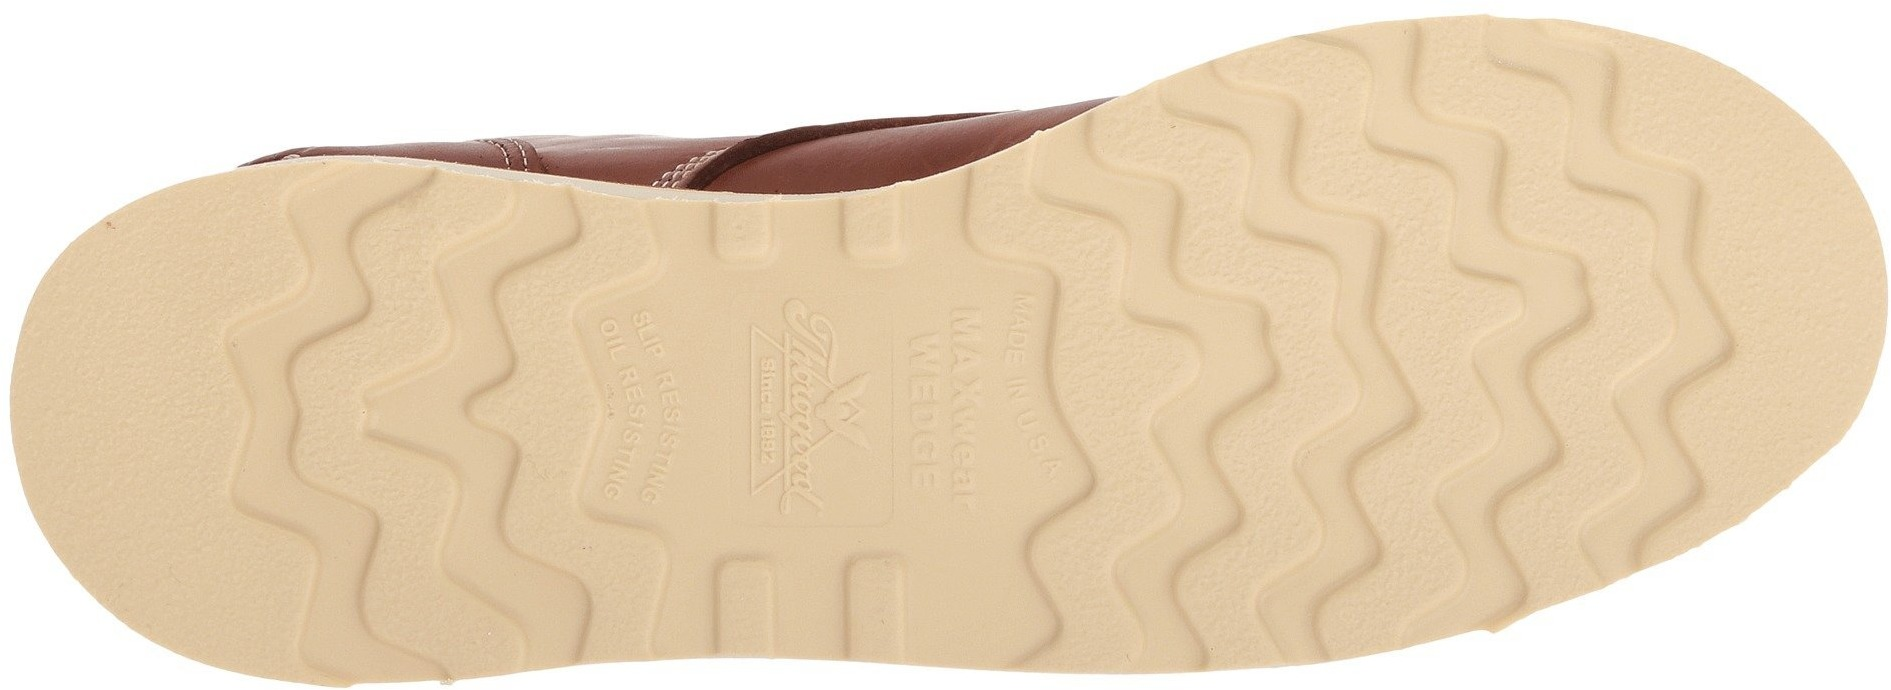chevron: (1005, 11, 1887, 682), (189, 154, 617, 682)
text: (898, 283, 1077, 524), (744, 283, 844, 524), (595, 306, 696, 505)
